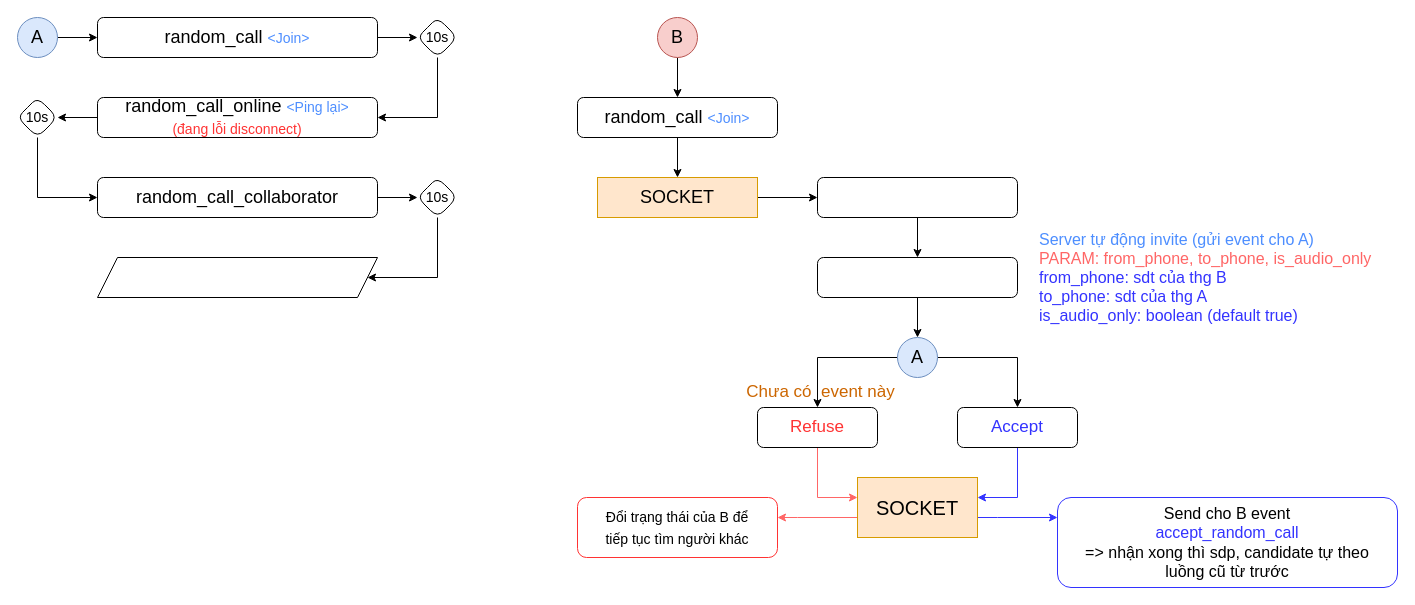
Image size: 1415x605. Some labels were removed from this diagram. The shapes that lost their labels are listed below. From the top down, each one's box as (x1, y1, x2, y2) in pixels, then its label:
(816, 176, 1018, 218): Tìm thấy A đang trong chế độ chờ
(96, 256, 378, 298): random_call_waiting_for Vào chế độ chờ
(816, 256, 1018, 298): invite_random_call
